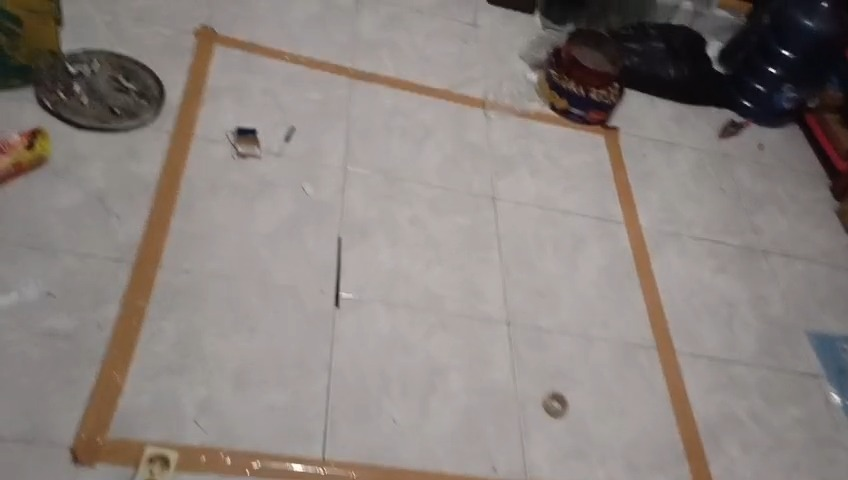floor marking: (71, 25, 711, 479), (153, 442, 460, 479)
